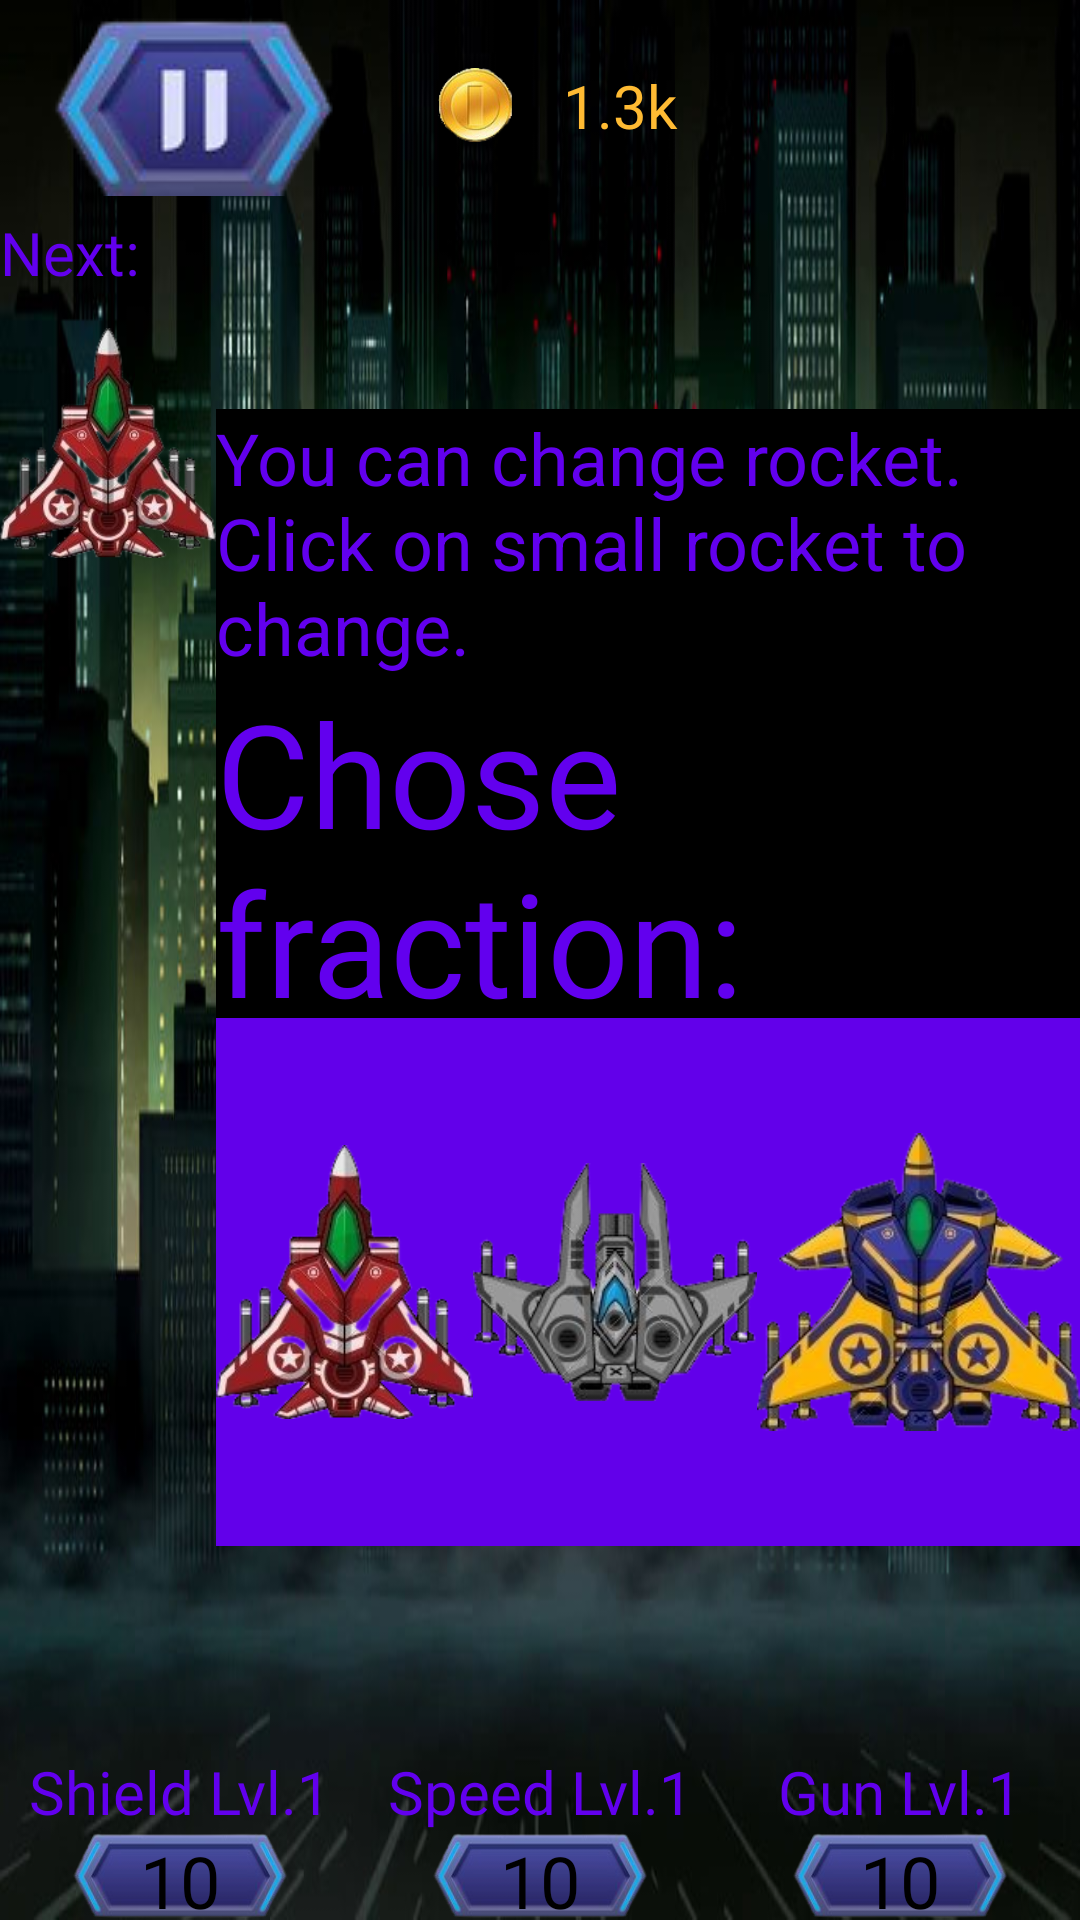

Screen size 1080w x 1920h. Icon name, then its box in pixels as bbox=(x1, y1, x2, y2):
silver: bbox=(473, 1163, 757, 1401)
